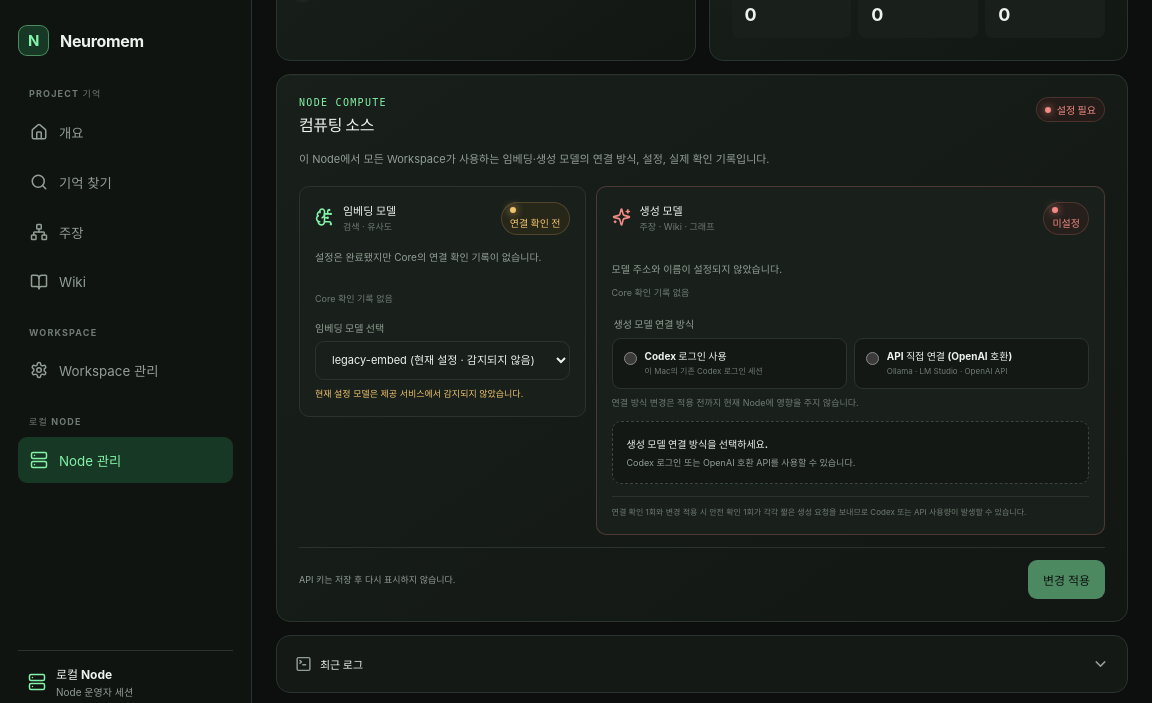
it: Neuromem web routes › keeps an undiscovered embedding model and applies only an explicitly selected replacement after confirmation
The width and height of the screenshot is (1152, 703).
(page scrolled)
Expected: the button "변경 적용" is disabled, x1=1028 y1=560 x2=1105 y2=599
Select "embed-new" in the dropdown labelled "임베딩 모델 선택": (442, 360) x1=315 y1=341 x2=570 y2=380
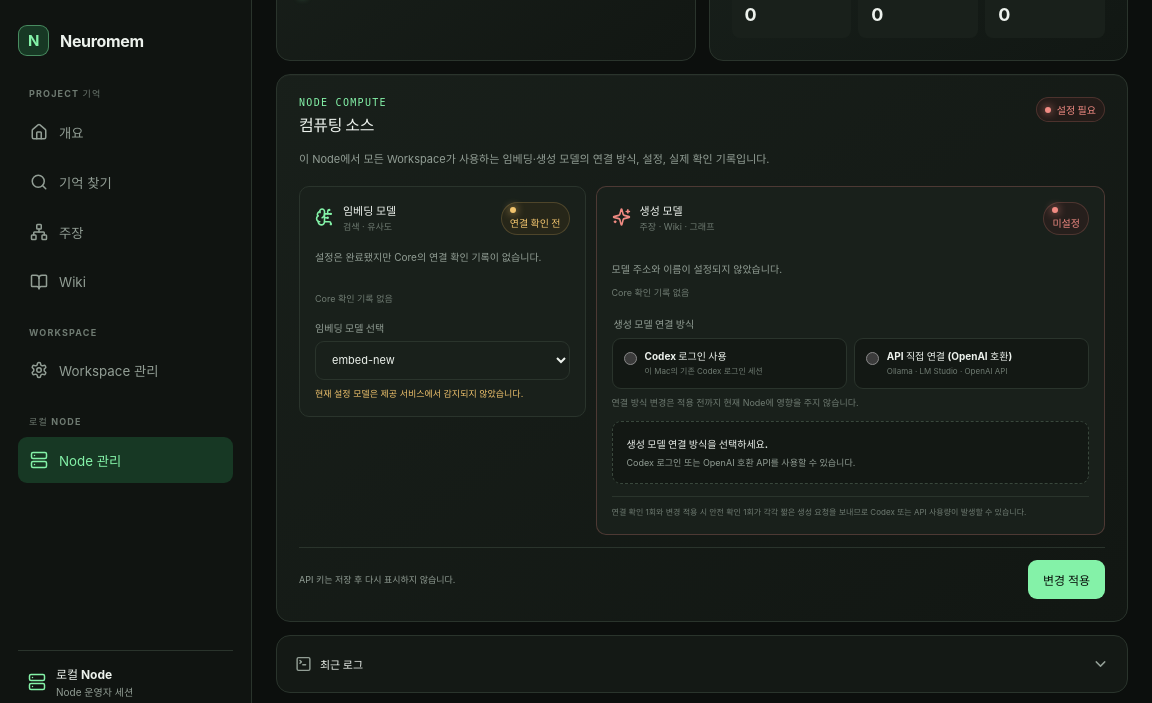
Expected: the button "변경 적용" is enabled
Click the button "변경 적용": click(1066, 579) x1=1028 y1=560 x2=1105 y2=599
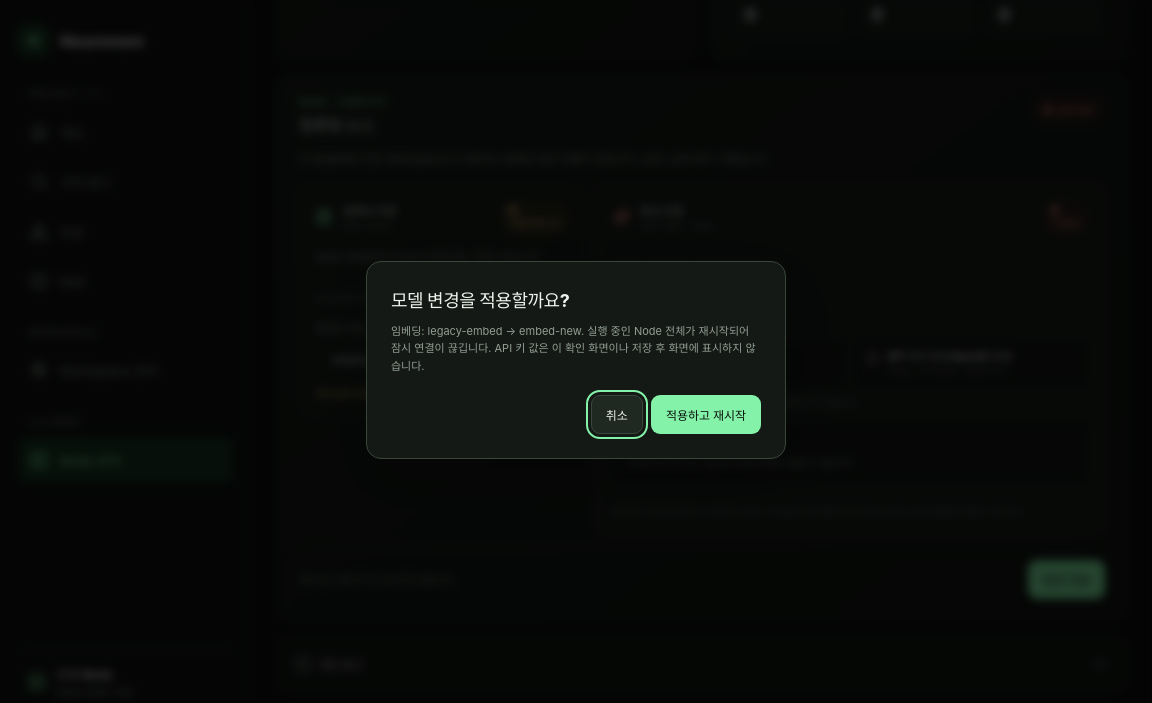
Expected: the dialog "모델 변경을 적용할까요?" shows "임베딩: legacy-embed → embed-new", x1=391 y1=324 x2=756 y2=373
Expected: the dialog "모델 변경을 적용할까요?" shows "Node 전체가 재시작", x1=391 y1=324 x2=756 y2=373
Click the button "취소": click(617, 415) x1=591 y1=395 x2=643 y2=434
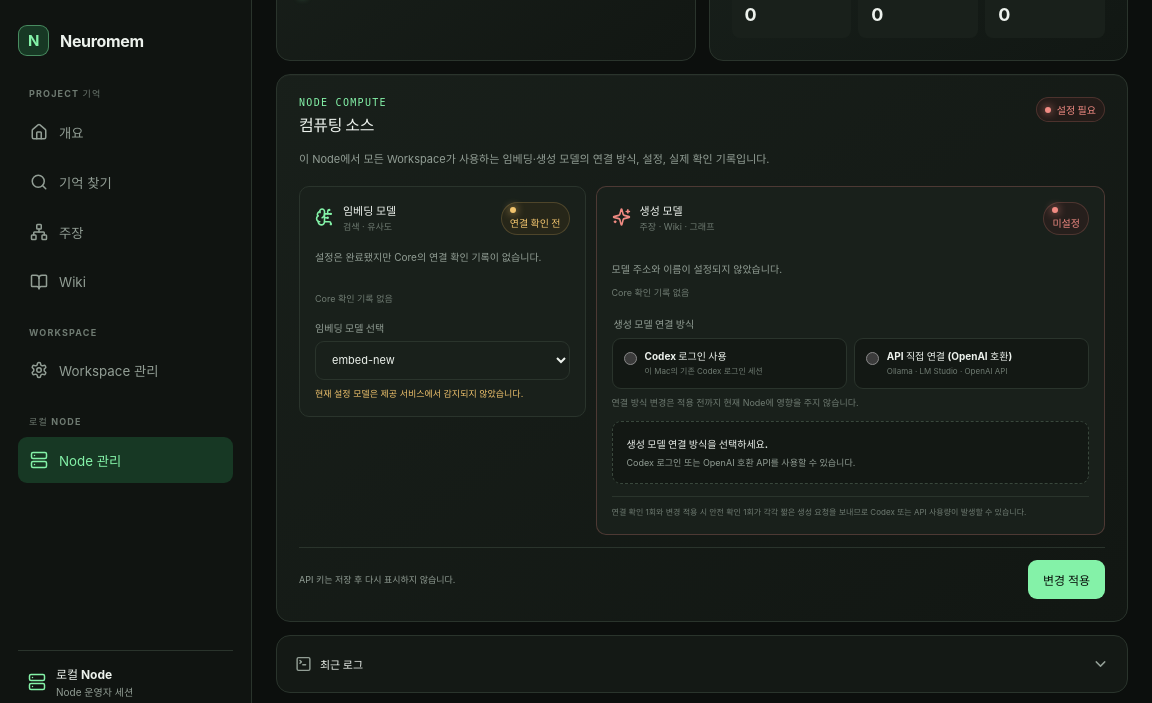
Expected: the dialog is gone
Click the button "변경 적용": click(1066, 579) x1=1028 y1=560 x2=1105 y2=599
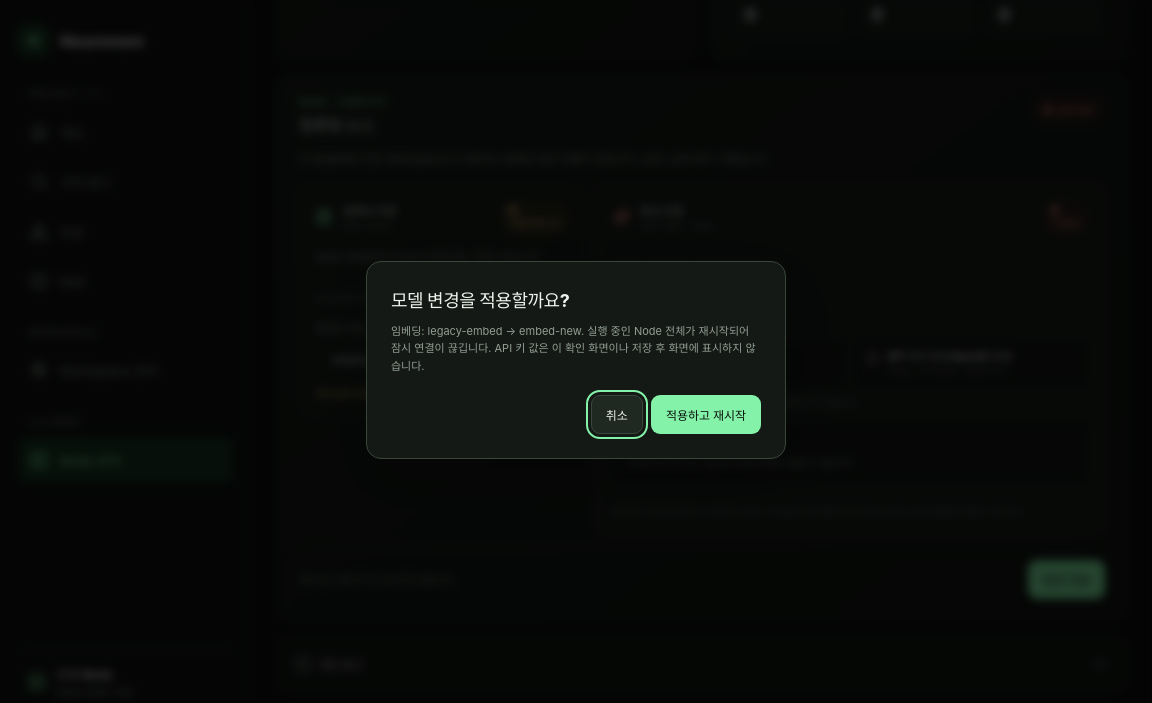
Click the button "적용하고 재시작": click(706, 415) x1=651 y1=395 x2=761 y2=434
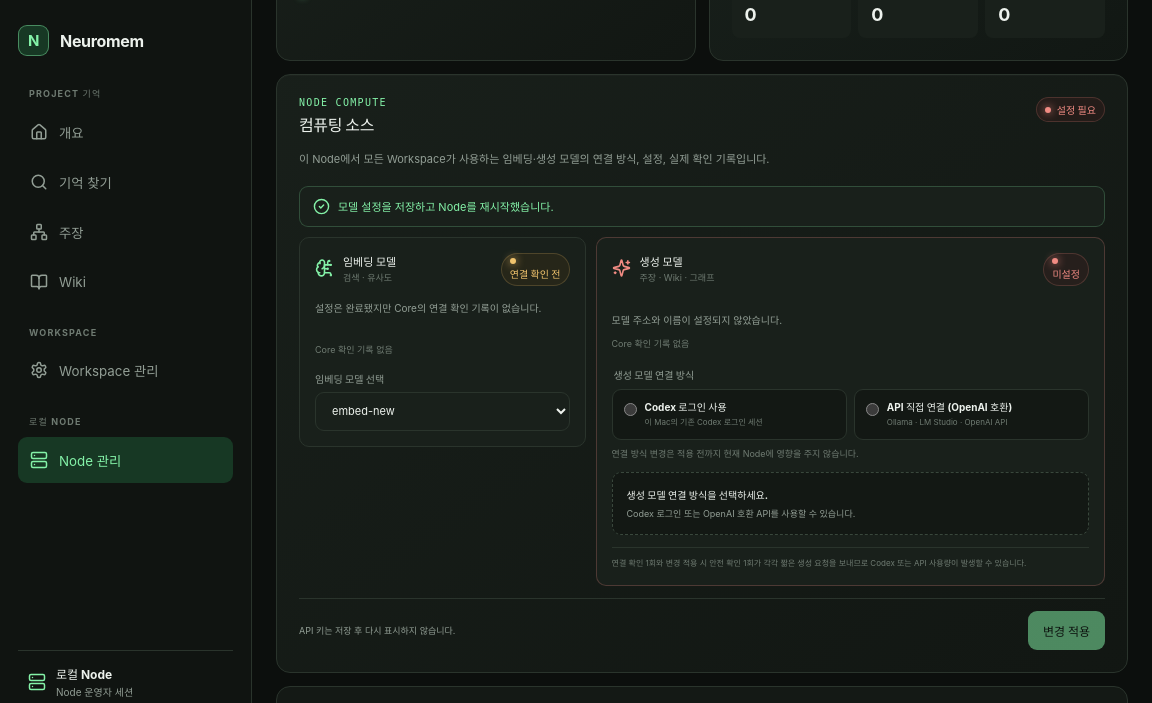
Expected: the text "모델 설정을 저장하고 Node를 재시작했습니다." is shown, x1=299 y1=186 x2=1105 y2=227
